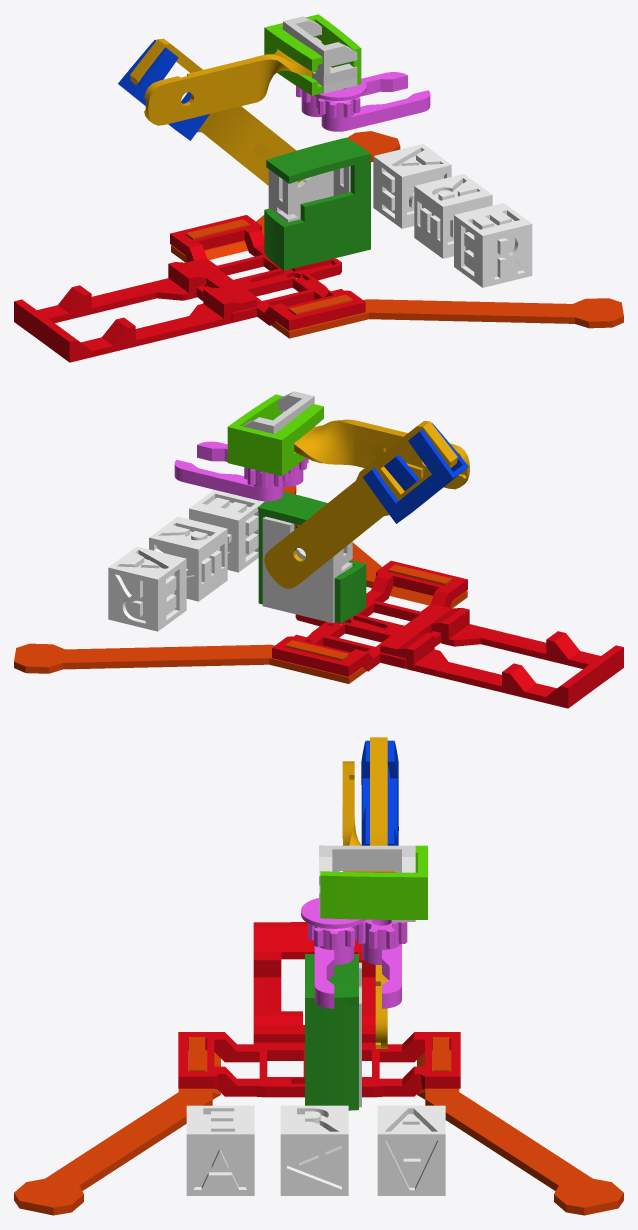
The model's file is ERA_Model_FBX.fbx.
3 views of the same model, one above another, from view 1: azimuth 30°, elevation 25°; view 2: azimuth 150°, elevation 25°; view 3: azimuth 270°, elevation 25° (orthographic). The views are drawn at different scales.
Parts seen in each view (by area): view 1: CounterWeight, ServoHolder.004, Base, RightSupport, LowerArm, Cube0, UpperArm, Cube2, Cube1, 8GearAlt, GripperClip, GripperHolder (+4 smaller); view 2: CounterWeight, Base, UpperArm, LeftSupport, Cube2, LowerArm, GripperClip, BaseHolder, Cube1, ElbowGripper, ServoHolder.004, Cube0 (+4 smaller); view 3: Base, LeftSupport, RightSupport, ServoHolder.004, CounterWeight, Cube0, Cube1, Cube2, GripperClip, 8GearAlt, UpperArm, 8GearServo (+3 smaller).
Boxes of the visible parts, <box> form: CounterWeight: <box>14,259,257,362</box>; ServoHolder.004: <box>264,137,370,270</box>; Base: <box>170,215,365,330</box>; RightSupport: <box>271,294,623,338</box>; LowerArm: <box>144,50,315,125</box>; Cube0: <box>454,203,532,287</box>; UpperArm: <box>130,38,301,185</box>; Cube2: <box>373,144,451,228</box>; Cube1: <box>414,174,492,258</box>; 8GearAlt: <box>314,79,430,131</box>; GripperClip: <box>264,14,361,95</box>; GripperHolder: <box>283,16,357,93</box>; CounterWeight: <box>380,604,623,708</box>; Base: <box>272,560,467,676</box>; UpperArm: <box>264,421,457,588</box>; LeftSupport: <box>14,640,366,683</box>; Cube2: <box>108,546,186,631</box>; LowerArm: <box>294,419,469,489</box>; GripperClip: <box>227,394,323,476</box>; BaseHolder: <box>262,516,352,623</box>; Cube1: <box>149,516,227,601</box>; ElbowGripper: <box>363,422,468,523</box>; ServoHolder.004: <box>258,491,366,623</box>; Cube0: <box>189,490,264,572</box>; Base: <box>178,1032,460,1097</box>; LeftSupport: <box>417,1037,623,1215</box>; RightSupport: <box>14,1037,220,1215</box>; ServoHolder.004: <box>305,954,358,1110</box>; CounterWeight: <box>253,922,375,1042</box>; Cube0: <box>186,1105,254,1195</box>; Cube1: <box>280,1105,348,1195</box>; Cube2: <box>377,1105,445,1195</box>; GripperClip: <box>320,845,427,919</box>; 8GearAlt: <box>301,898,365,1008</box>; UpperArm: <box>370,737,387,1048</box>; 8GearServo: <box>356,919,407,1008</box>.
Size of the model in its own units: 21.73 by 10.96 by 20.71.
